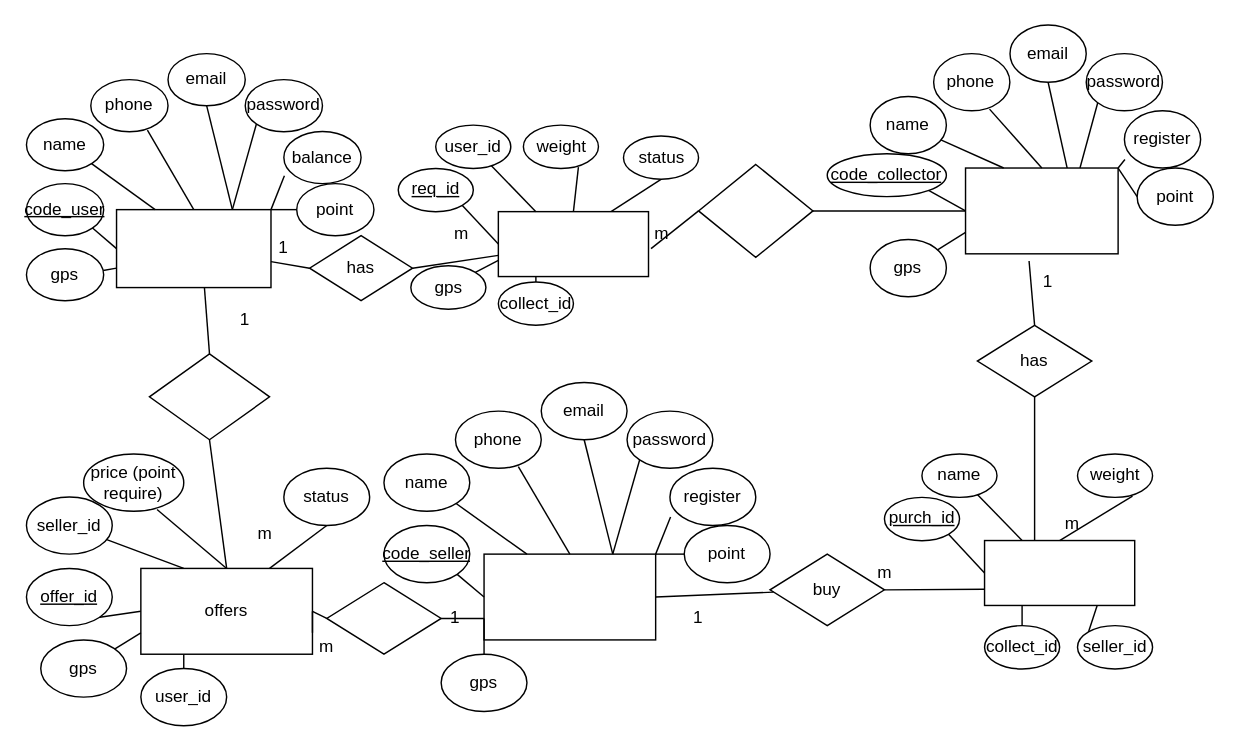
This 1238x751 diagram has some shape labels left out. The shapes that lost their labels are listed below. From the top down, each one's box as (x1, y1, x2, y2) in pixels, then its label:
(697, 163, 813, 257): collect
(964, 167, 1118, 254): collectors
(115, 208, 271, 288): users
(497, 210, 649, 277): request
(148, 352, 270, 440): replace point
(983, 539, 1135, 605): purchases
(483, 553, 656, 640): sellers
(325, 581, 441, 654): present
